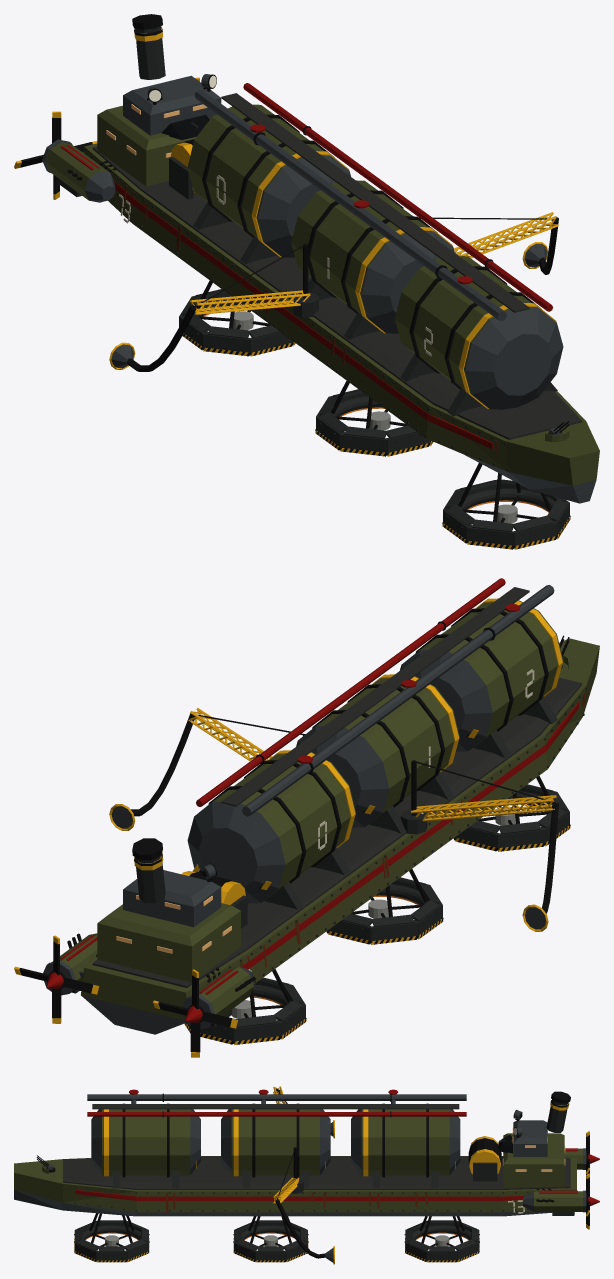
Rendered from steam_tender.obj.
3 renders of one model, top to bottom at view 1: azimuth 30°, elevation 25°; view 2: azimuth 150°, elevation 25°; view 3: azimuth 270°, elevation 25°, orthographic. The views are drawn at different scales.
Visible parts, largest first — view 1: steam_tender; view 2: steam_tender; view 3: steam_tender.
Part boxes in pixels (left/top/right/bottom): steam_tender: left=14, top=14, right=599, bottom=549; steam_tender: left=14, top=578, right=599, bottom=1057; steam_tender: left=14, top=1086, right=599, bottom=1264.
Size of the model in its own units: 271 by 144 by 500.
Materials: 1 (1 with a texture image).
